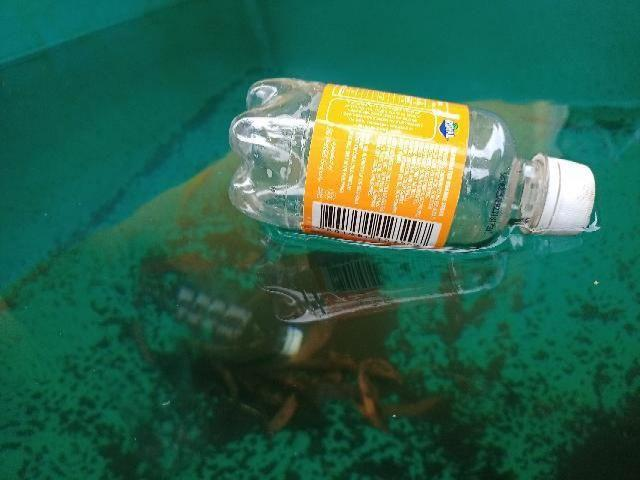Bottle: (228, 72, 601, 258)
